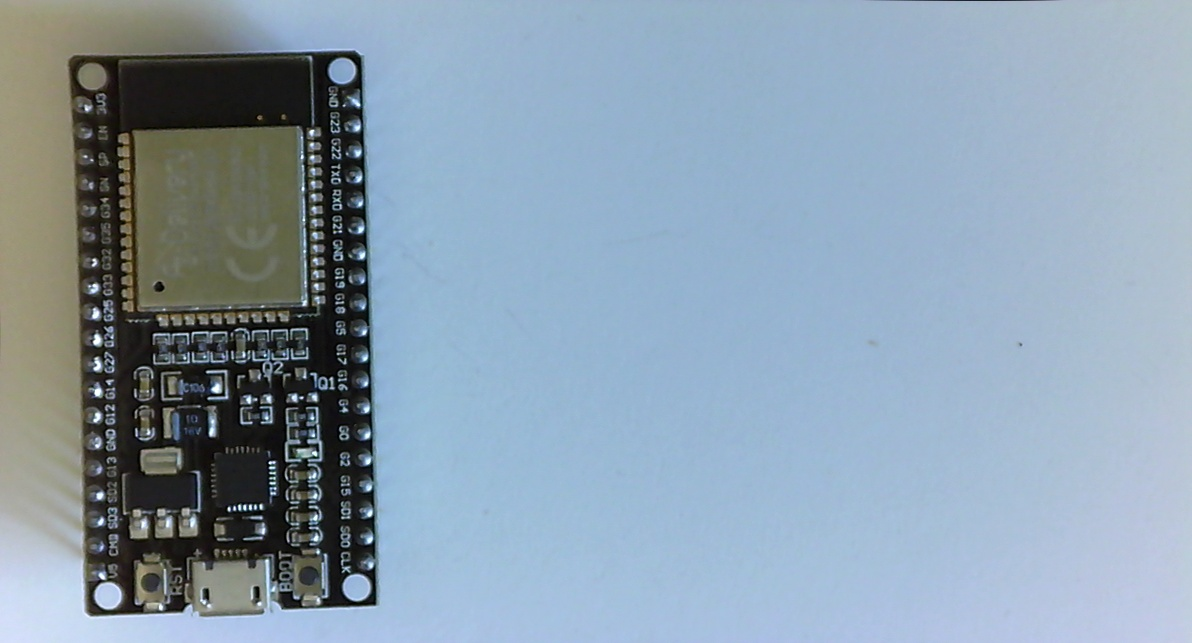IC: (113, 127, 328, 327), (119, 451, 200, 541), (209, 447, 279, 514), (206, 515, 275, 547), (282, 367, 321, 405), (241, 369, 275, 404)
LED: (285, 443, 323, 461)
capacitor: (131, 404, 156, 443), (131, 366, 155, 404), (282, 506, 327, 525), (284, 526, 325, 544), (285, 465, 320, 481), (231, 332, 249, 362), (287, 486, 323, 501)
connector: (77, 91, 111, 583), (341, 85, 372, 573), (184, 555, 277, 618)
diode: (161, 407, 221, 440)
resistor: (241, 407, 273, 422), (191, 332, 208, 360), (253, 331, 269, 360), (292, 330, 308, 358), (174, 333, 190, 361), (286, 407, 316, 421), (212, 334, 228, 360), (274, 331, 289, 358), (288, 425, 318, 438), (156, 336, 171, 361)
switch: (289, 550, 326, 607), (133, 553, 167, 614)
transistor: (163, 372, 231, 399)
